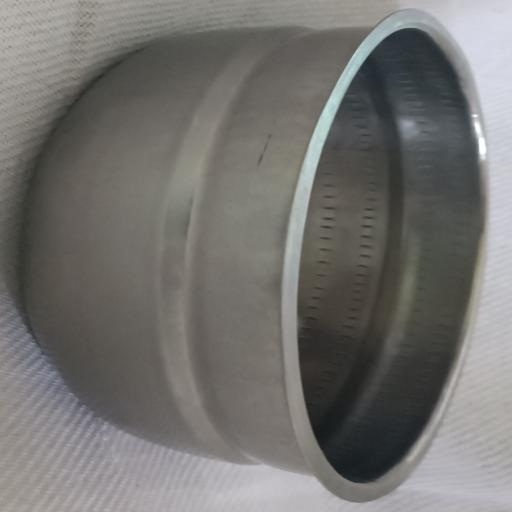vessel: (23, 10, 485, 501)
